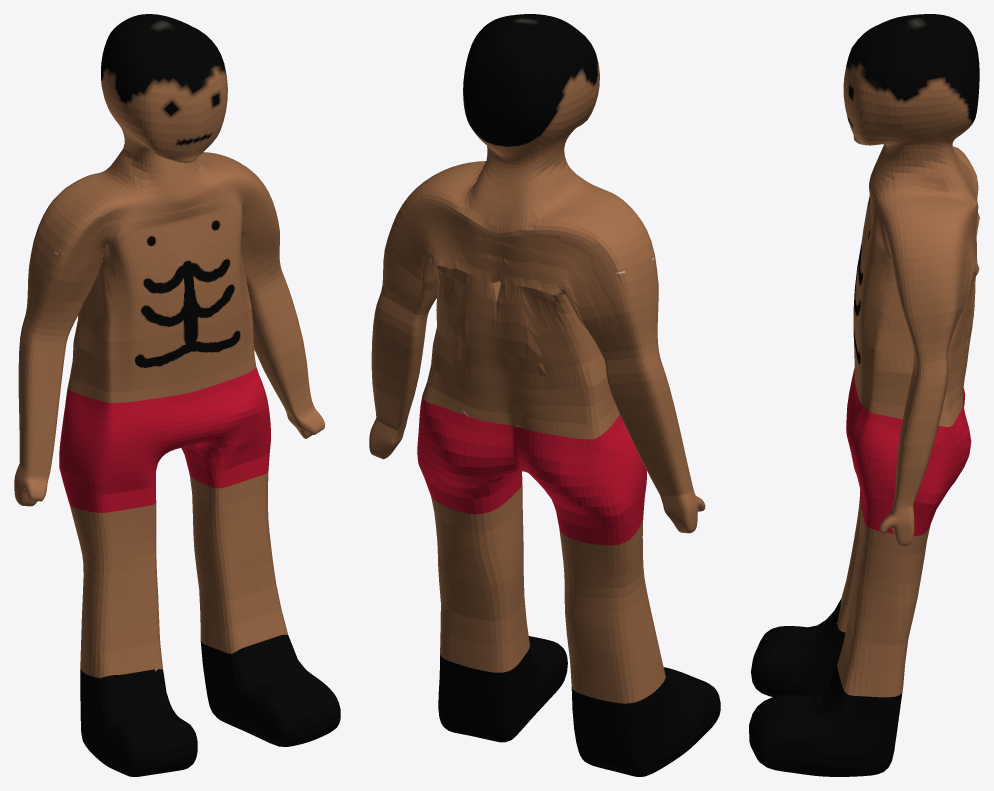
Rendered from Salvavidas.obj.
3 views of the same model, side by side, from view 1: azimuth 30°, elevation 25°; view 2: azimuth 150°, elevation 25°; view 3: azimuth 270°, elevation 25° (orthographic). The views are drawn at different scales.
Visible parts, largest first — view 1: Salvavidas; view 2: Salvavidas; view 3: Salvavidas.
Part boxes in pixels (bbox=[...]): Salvavidas: bbox=[14, 14, 340, 776]; Salvavidas: bbox=[369, 14, 720, 776]; Salvavidas: bbox=[749, 14, 979, 776].
Size of the model in its own units: 0.7869 by 1.75 by 0.5157.
Materials: 1 (1 with a texture image).
